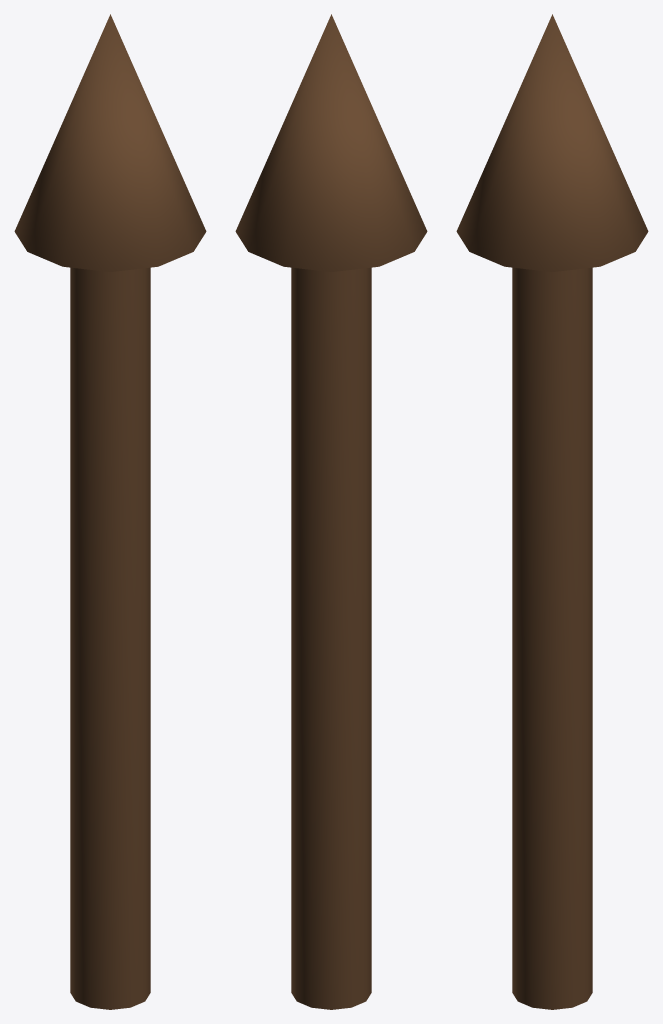
File: torch.obj
3 renders of one model, left to right at view 1: azimuth 30°, elevation 25°; view 2: azimuth 150°, elevation 25°; view 3: azimuth 270°, elevation 25°, orthographic.
Bounding box in the file's own units: 0.48 × 2.7 × 0.48.
